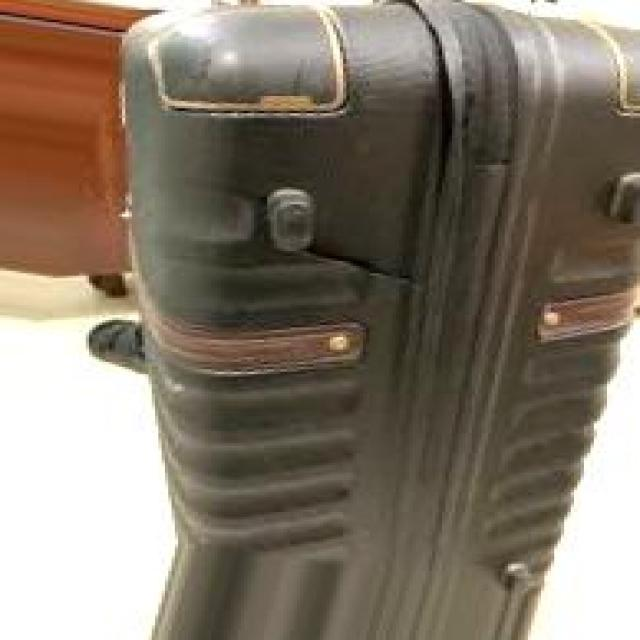Damage-bag: (275, 245, 411, 286)
